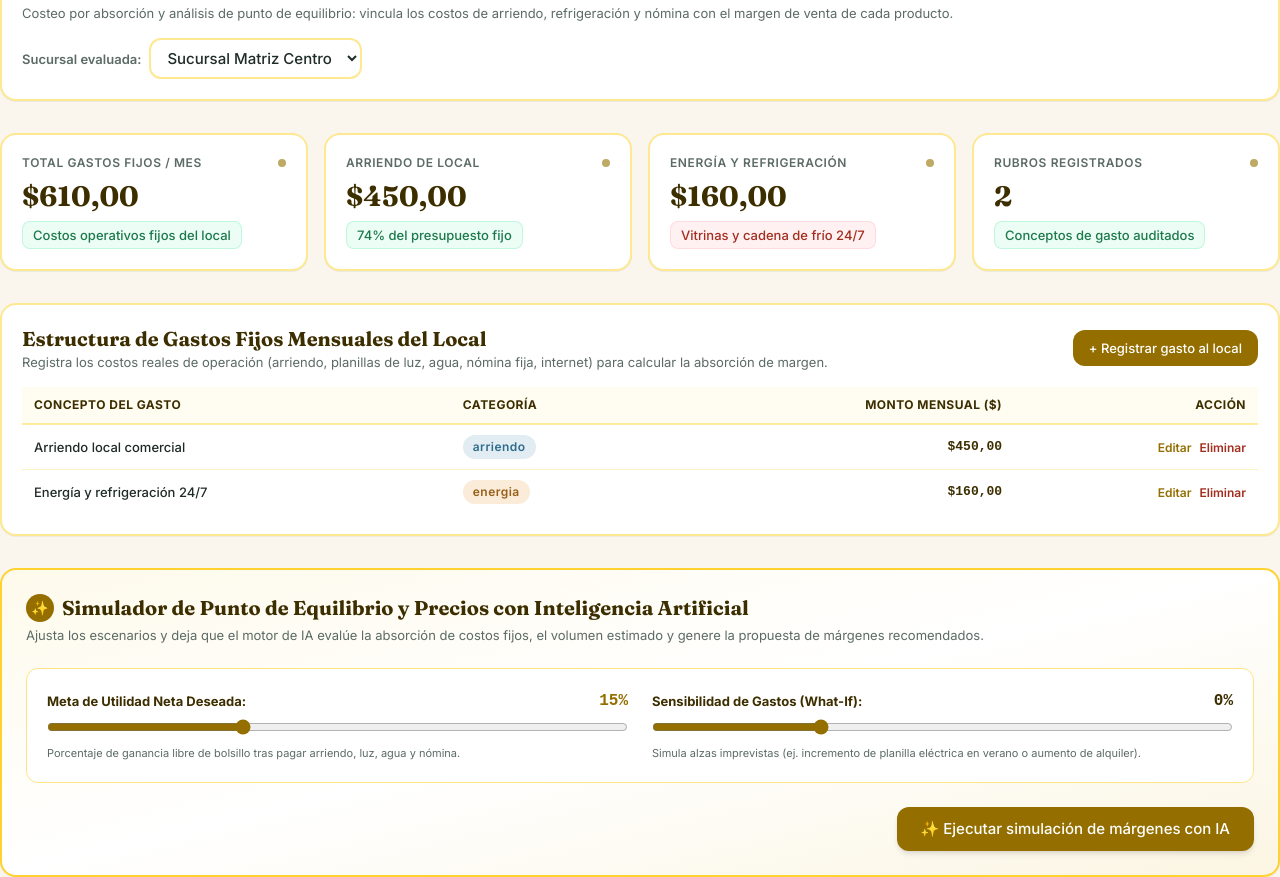
DashboardDueno — Sección de Gastos y Simulador de Márgenes con IA › ejecuta la simulación con IA, muestra el punto de equilibrio y el dictamen explicativo
(page scrolled)
Click the button "✨ Ejecutar simulación de márgenes con IA" at (1075, 828), box [896,806,1254,850]
(page scrolled)
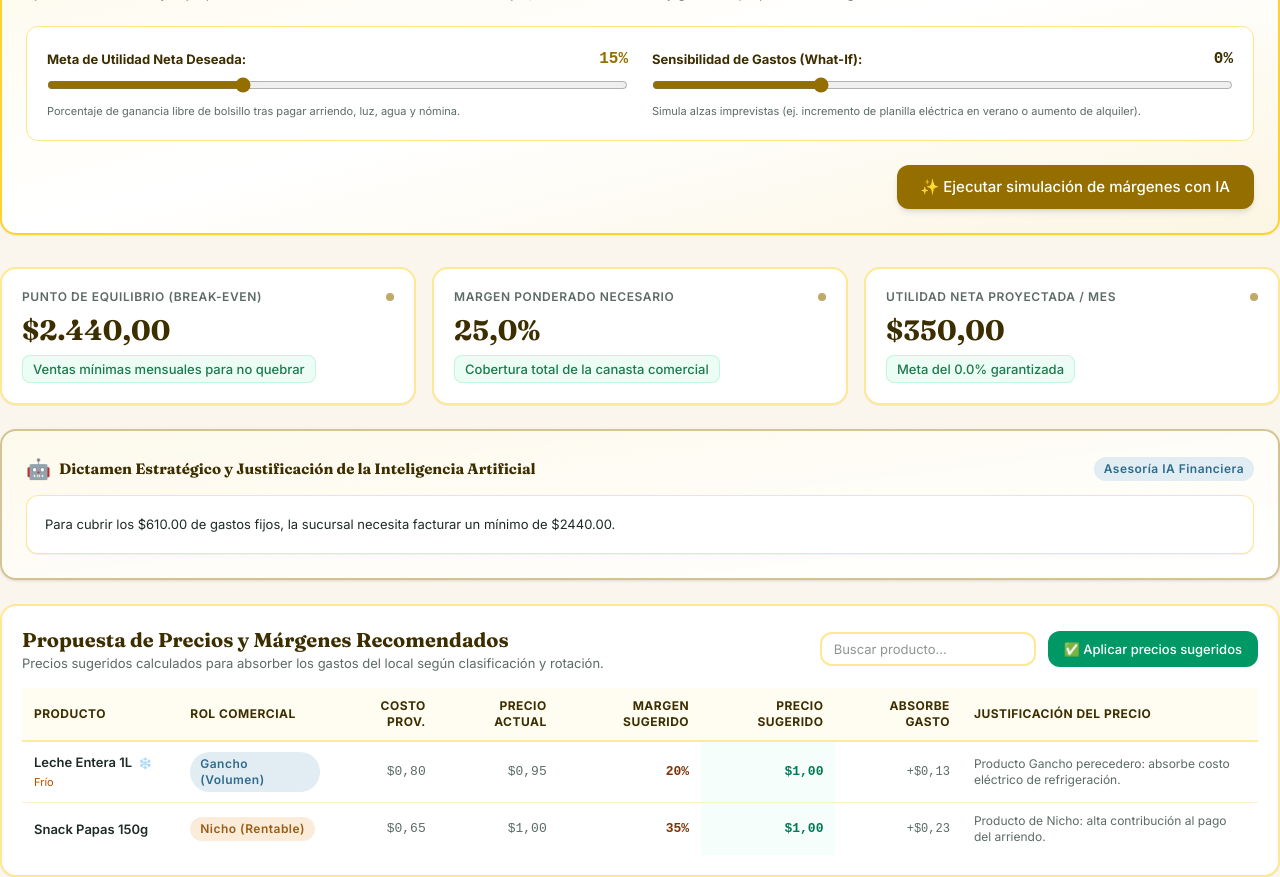
Result: the text "$2.440,00" is shown at [22,312,170,346]
Result: the text "Para cubrir los $610.00 de gastos fijos" is shown at [45,516,615,532]
Result: the text "Leche Entera 1L" is shown at [34,754,132,770]
